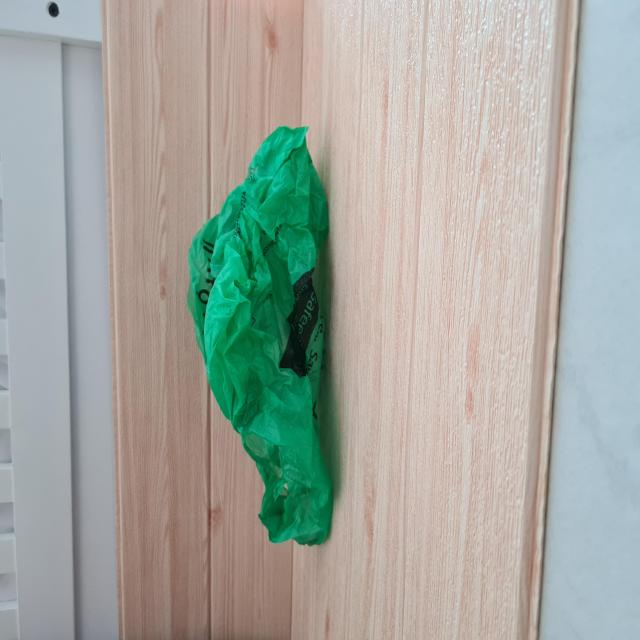plastic bag: (189, 124, 339, 550)
